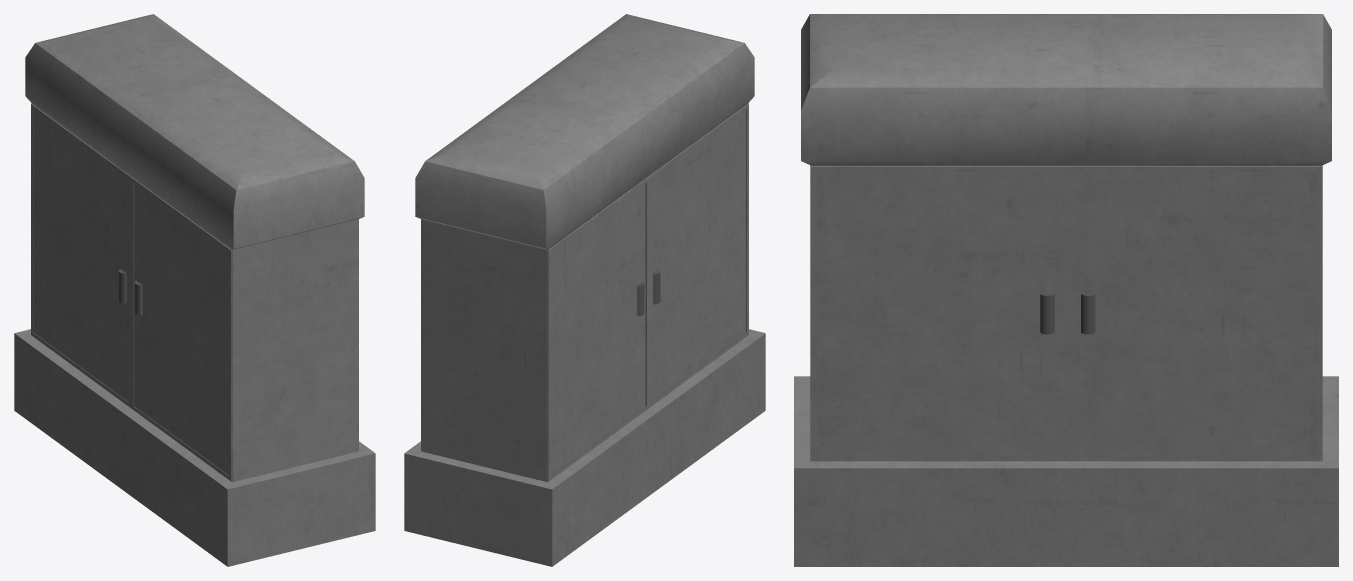
Rendered from street_fusebox.fbx.
3 renders of one model, left to right at view 1: azimuth 30°, elevation 25°; view 2: azimuth 150°, elevation 25°; view 3: azimuth 270°, elevation 25°, orthographic. The views are drawn at different scales.
Parts seen in each view (by area): view 1: bake; view 2: bake; view 3: bake.
Boxes of the visible parts, left/top/right/bottom form: bake: left=14, top=14, right=375, bottom=566; bake: left=404, top=14, right=765, bottom=566; bake: left=794, top=14, right=1338, bottom=566.
Size of the model in its own units: 80 by 194 by 200.
1 material, 1 textured.
